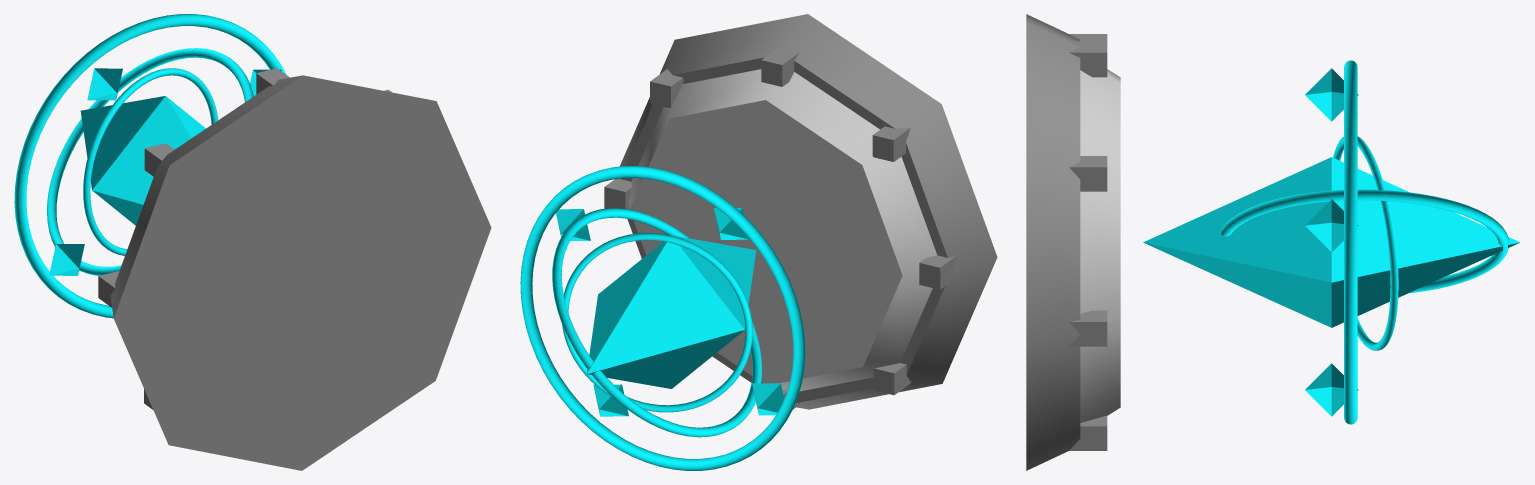
The model's file is magic_Tower.fbx.
3 views of the same model, side by side, from view 1: azimuth 30°, elevation 25°; view 2: azimuth 150°, elevation 25°; view 3: azimuth 270°, elevation 25° (orthographic). The views are drawn at different scales.
Visible parts, largest first — view 1: imagetostl_mesh0, imagetostl_mesh10, imagetostl_mesh15, imagetostl_mesh16, imagetostl_mesh17, imagetostl_mesh11, imagetostl_mesh12, imagetostl_mesh5, imagetostl_mesh6; view 2: imagetostl_mesh1, imagetostl_mesh0, imagetostl_mesh10, imagetostl_mesh15, imagetostl_mesh16, imagetostl_mesh17, imagetostl_mesh5, imagetostl_mesh4, imagetostl_mesh6, imagetostl_mesh7, imagetostl_mesh3, imagetostl_mesh12 (+4 smaller); view 3: imagetostl_mesh10, imagetostl_mesh0, imagetostl_mesh1, imagetostl_mesh15, imagetostl_mesh16, imagetostl_mesh17, imagetostl_mesh14, imagetostl_mesh11, imagetostl_mesh13, imagetostl_mesh2, imagetostl_mesh3, imagetostl_mesh4 (+1 smaller).
Part boxes in pixels (x1,y1,x2,y2): imagetostl_mesh0: (110,75,491,470); imagetostl_mesh10: (80,96,205,225); imagetostl_mesh15: (14,14,286,318); imagetostl_mesh16: (47,48,253,275); imagetostl_mesh17: (83,68,218,255); imagetostl_mesh11: (87,68,122,100); imagetostl_mesh12: (49,243,84,275); imagetostl_mesh5: (144,143,174,176); imagetostl_mesh6: (98,271,119,307); imagetostl_mesh1: (628,69,937,391); imagetostl_mesh0: (619,14,997,409); imagetostl_mesh10: (586,235,756,388); imagetostl_mesh15: (520,166,805,470); imagetostl_mesh16: (552,208,761,437); imagetostl_mesh17: (562,233,752,412); imagetostl_mesh5: (872,126,910,161); imagetostl_mesh4: (761,47,798,86); imagetostl_mesh6: (919,255,956,289); imagetostl_mesh7: (873,363,911,395); imagetostl_mesh3: (650,69,683,108); imagetostl_mesh12: (752,383,784,415); imagetostl_mesh10: (1143,157,1520,327); imagetostl_mesh0: (1026,14,1080,470); imagetostl_mesh1: (1080,69,1120,422); imagetostl_mesh15: (1344,60,1357,424); imagetostl_mesh16: (1220,189,1508,293); imagetostl_mesh17: (1333,136,1398,350); imagetostl_mesh14: (1305,199,1358,252); imagetostl_mesh11: (1305,68,1358,121); imagetostl_mesh13: (1305,363,1358,416); imagetostl_mesh2: (1069,310,1107,346); imagetostl_mesh3: (1069,156,1107,191); imagetostl_mesh4: (1069,41,1107,77).
Bounding box in the file's own units: 7200 × 7200 × 7327.
